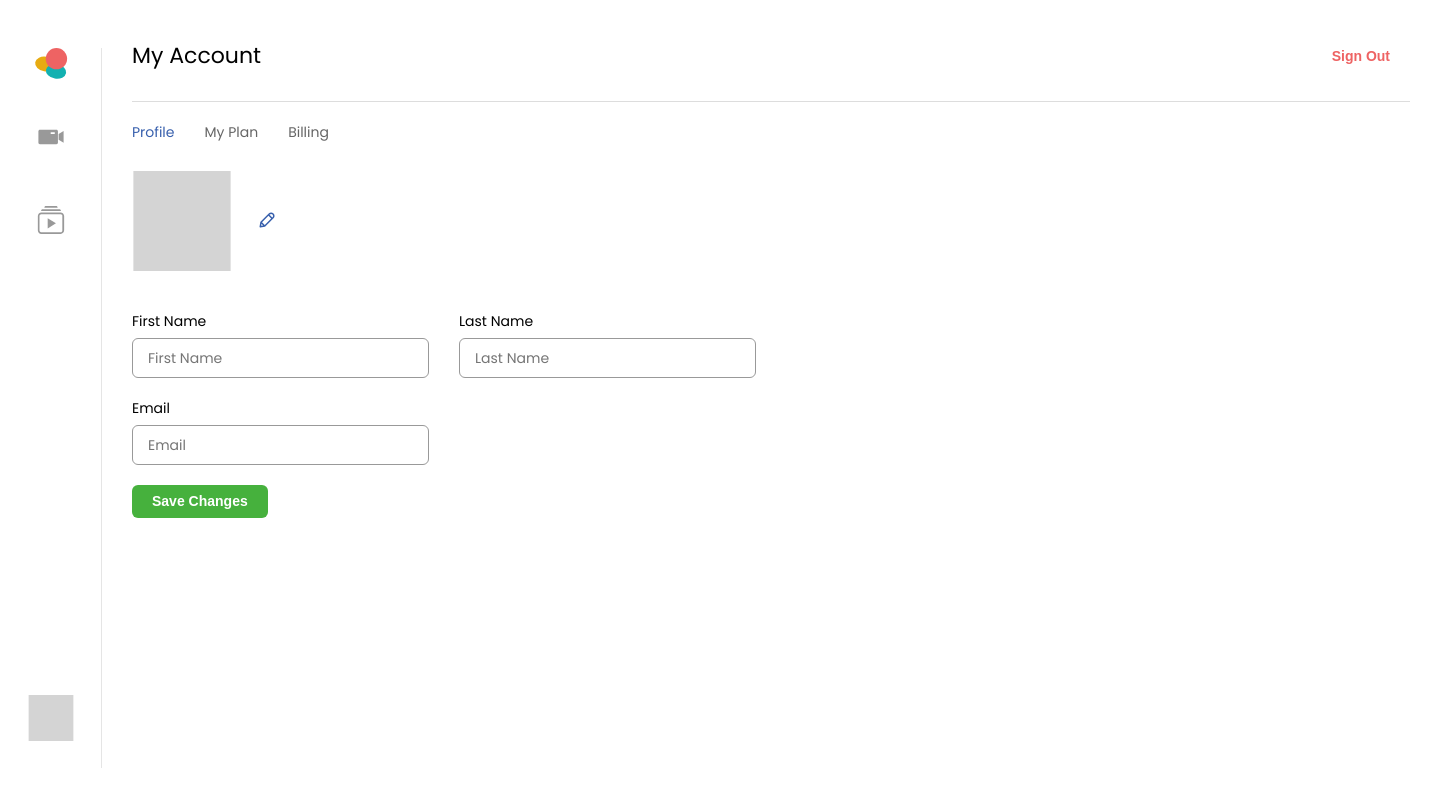
Test: My Account › Desktop › User should be able to visit Billing
Click the text "Billing": (309, 132) [288,122,329,142]
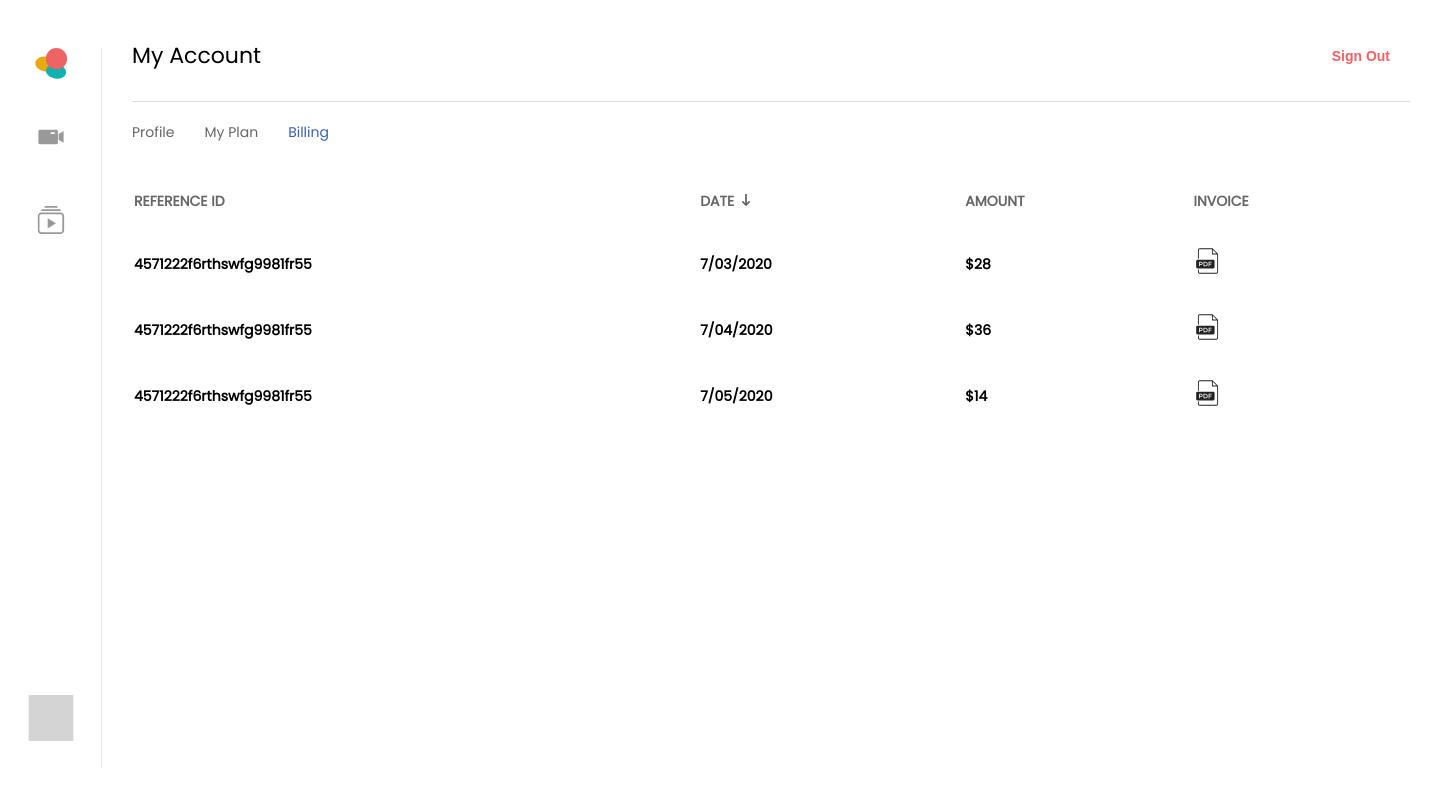
expect the text "Reference ID" is shown: met, box [134,191,224,211]
expect the text "Date" is shown: met, box [700,193,734,210]
expect the text "Amount" is shown: met, box [965,191,1025,211]
